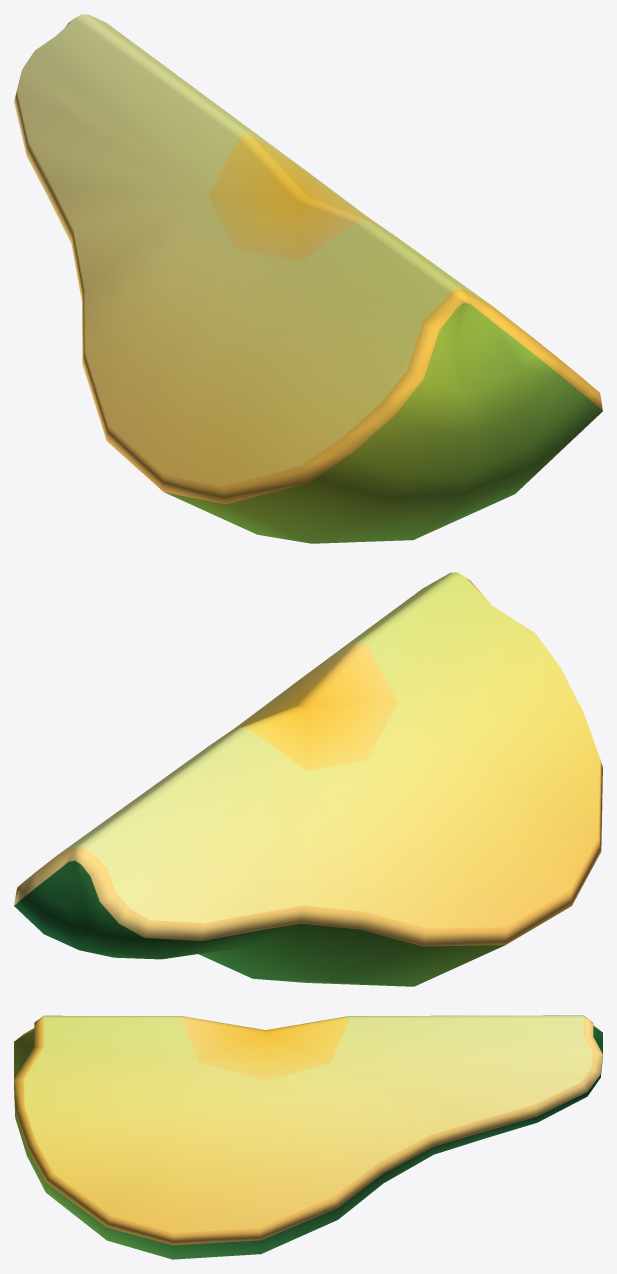
Rendered from pear_004.fbx.
3 renders of one model, top to bottom at view 1: azimuth 30°, elevation 25°; view 2: azimuth 150°, elevation 25°; view 3: azimuth 270°, elevation 25°, orthographic. The views are drawn at different scales.
Parts seen in each view (by area): view 1: pear_004; view 2: pear_004; view 3: pear_004.
Part boxes in pixels (x1=…): pear_004: x1=14, y1=14, x2=602, y2=543; pear_004: x1=14, y1=572, x2=602, y2=986; pear_004: x1=14, y1=1015, x2=602, y2=1259.
Bounding box in the file's own units: 6.22 × 10.8 × 4.47.
